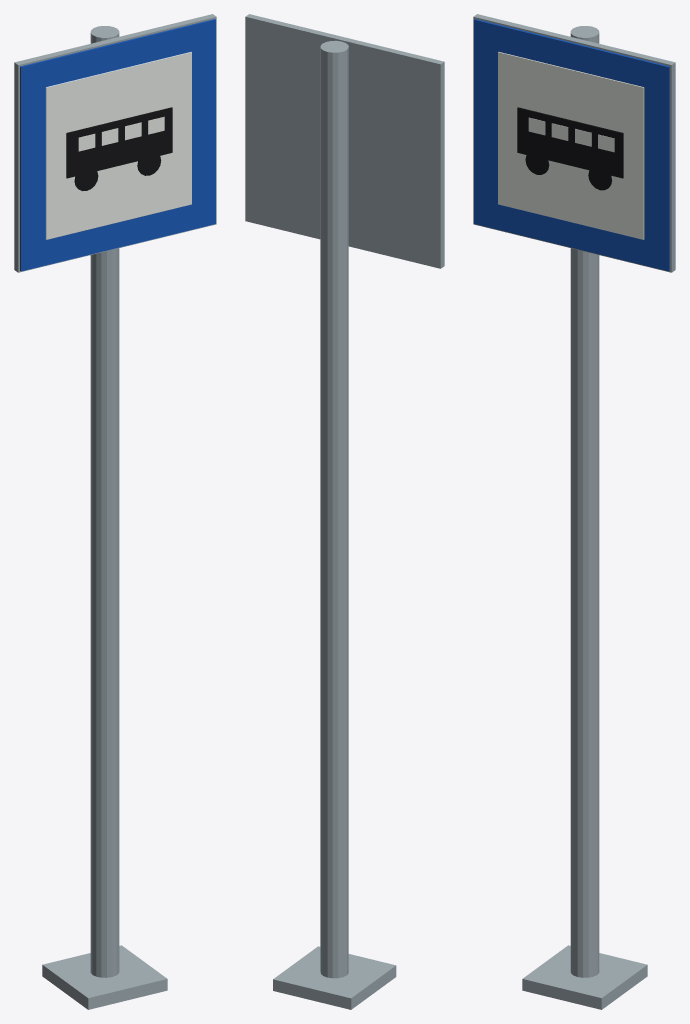
File: PT_Sign_5_16_BusStop.glb
The picture shows the model from 3 angles, left to right: view 1: azimuth 30°, elevation 25°; view 2: azimuth 150°, elevation 25°; view 3: azimuth 330°, elevation 25°; orthographic projection.
Parts seen in each view (by area): view 1: Post, Face_Blue, Face_White, Pictogram, Plate_Back, Pictogram_Windows; view 2: Plate_Back, Post; view 3: Post, Face_Blue, Face_White, Pictogram, Plate_Back, Pictogram_Windows.
Part boxes in pixels (box(x1,y1,x2,y2)): Post: box(42, 26, 167, 1009); Face_Blue: box(20, 19, 215, 271); Face_White: box(45, 52, 191, 239); Pictogram: box(66, 107, 172, 191); Plate_Back: box(14, 14, 216, 272); Pictogram_Windows: box(78, 116, 164, 151); Plate_Back: box(245, 14, 444, 268); Post: box(273, 40, 396, 1009); Post: box(522, 26, 647, 1009); Face_Blue: box(474, 19, 669, 271); Face_White: box(498, 52, 644, 239); Pictogram: box(517, 107, 623, 190); Plate_Back: box(473, 14, 675, 272); Pictogram_Windows: box(528, 117, 614, 152).
Bounding box in the file's own units: 0.6 × 2.75 × 0.24.
